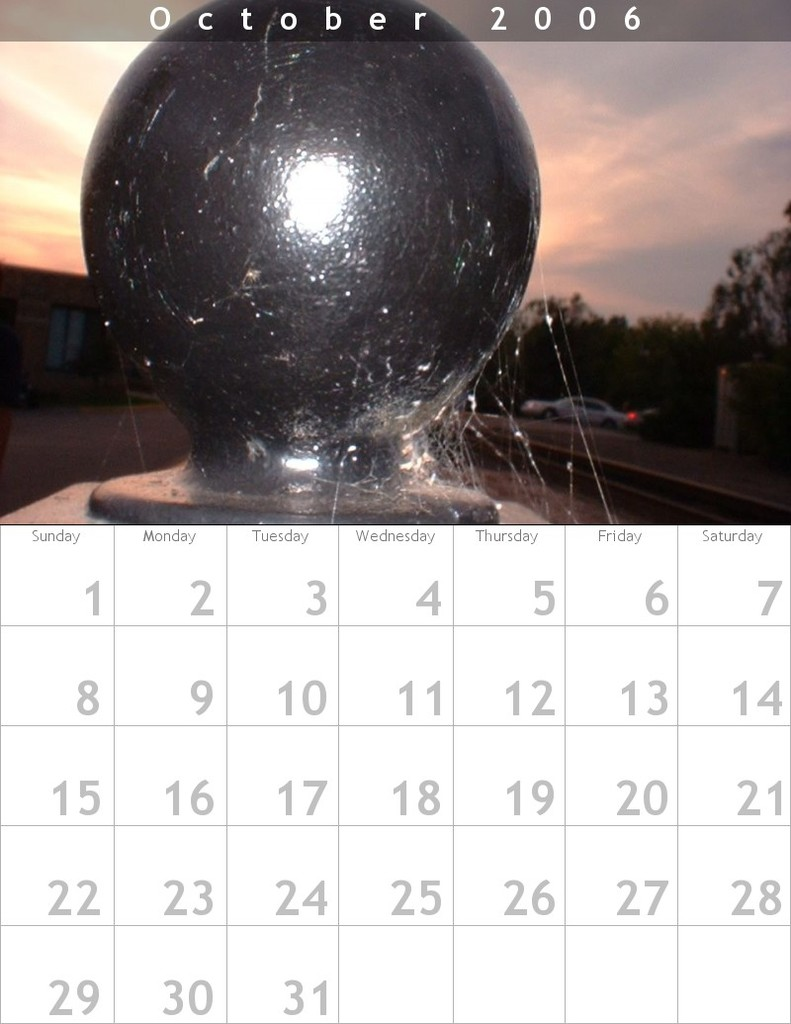person: (0, 294, 31, 515)
